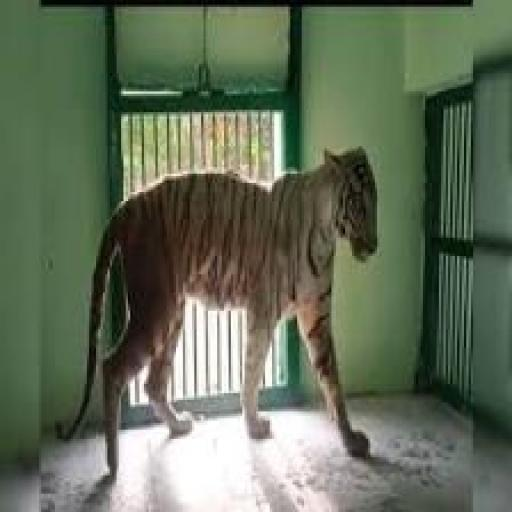Tiger: (55, 142, 383, 479)
